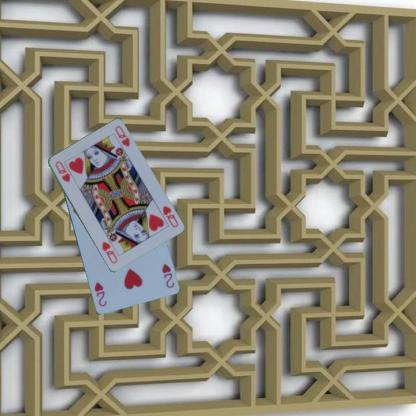2h: (159, 260, 175, 289)
Qh: (160, 203, 180, 229), (52, 158, 71, 184)
